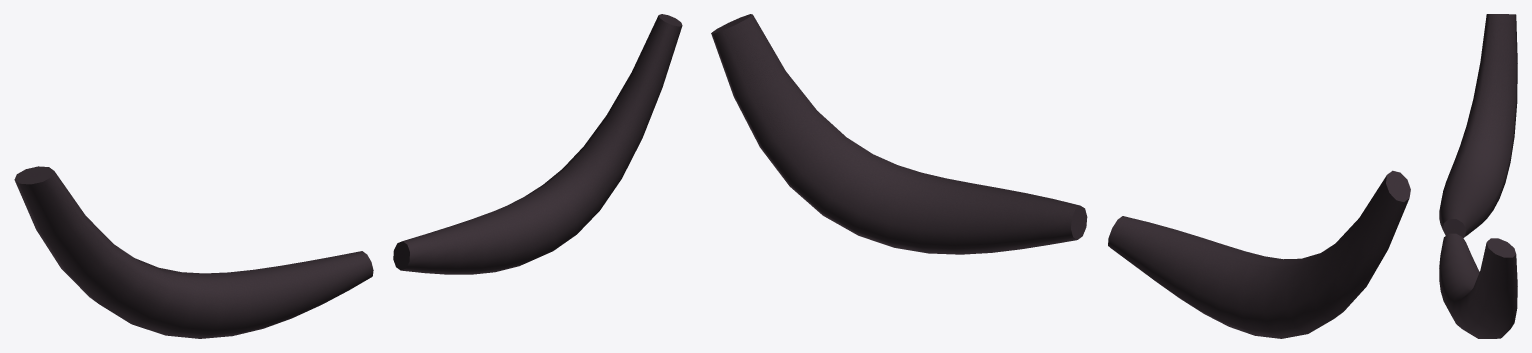
Rendered from facial_imperial_default.gltf.
3 views of the same model, side by side, from view 1: azimuth 30°, elevation 25°; view 2: azimuth 150°, elevation 25°; view 3: azimuth 270°, elevation 25° (orthographic). The views are drawn at different scales.
Parts seen in each view (by area): view 1: Imperial Moustache default; view 2: Imperial Moustache default; view 3: Imperial Moustache default.
Boxes of the visible parts, bbox=[...] form: Imperial Moustache default: bbox=[14, 14, 682, 338]; Imperial Moustache default: bbox=[711, 14, 1410, 338]; Imperial Moustache default: bbox=[1439, 14, 1517, 338].
Size of the model in its own units: 0.2579 by 0.0718 by 0.0353.
1 material, 1 textured.
